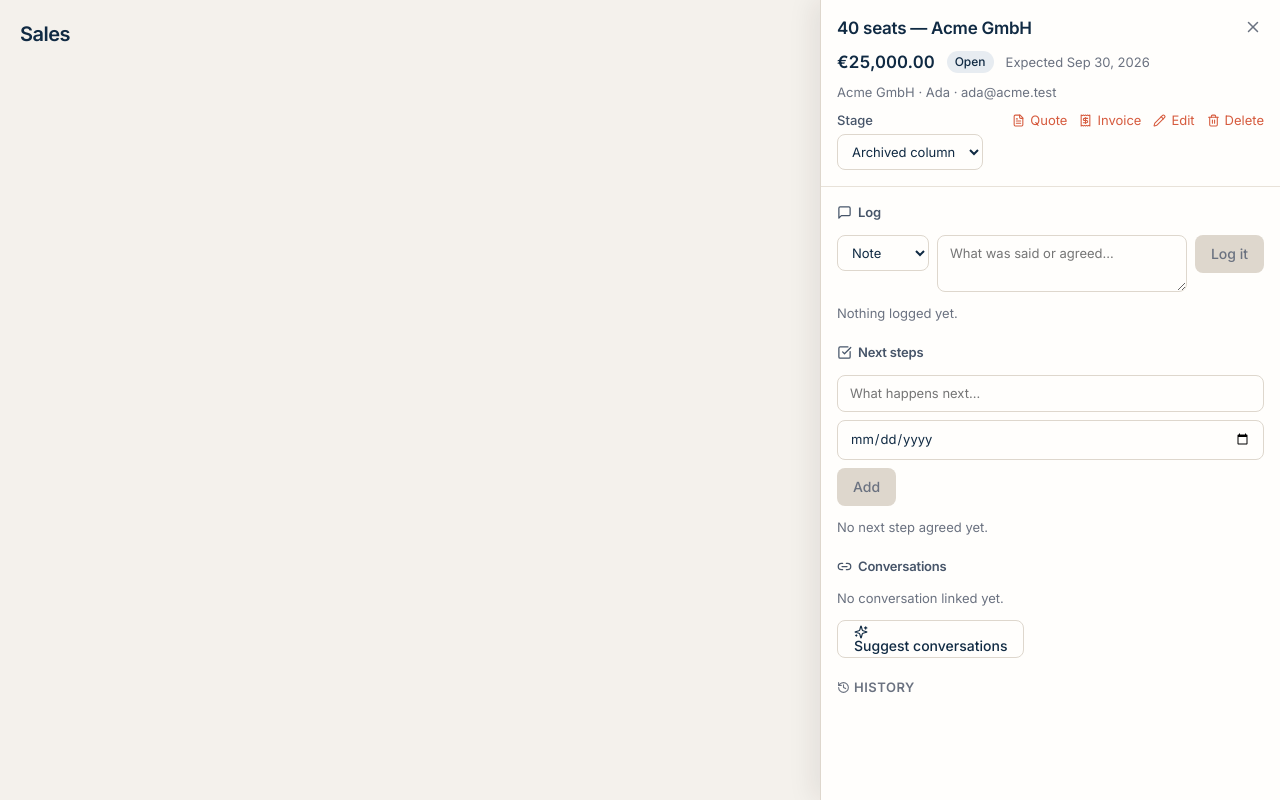
Test: the deal drawer › a note is written with the kind chosen, and the log re-read
Expected: the text "Nothing logged yet." is shown, [837,304,958,320]
Select "Meeting" in the dropdown named "Kind of entry" at point(883, 252), box [837,234,929,270]
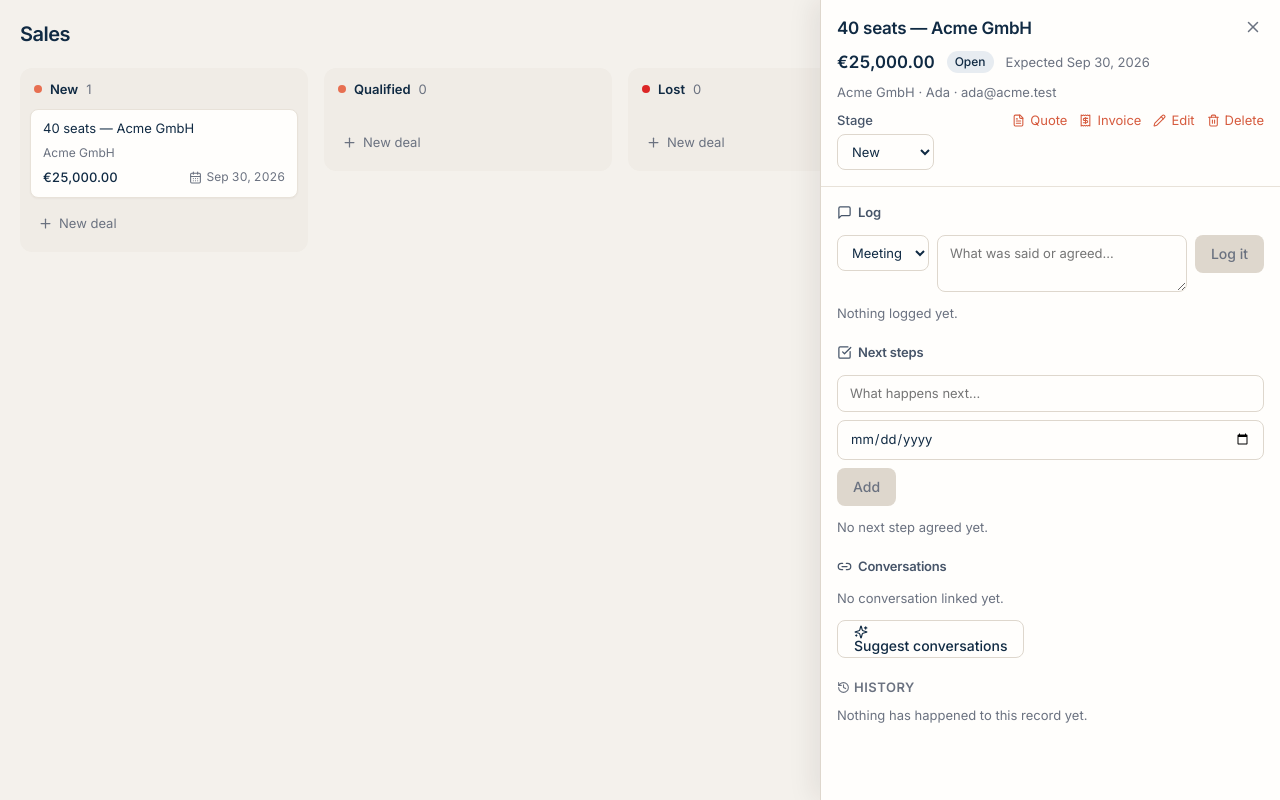
Type "Walked them through the seats." into the text box labelled "What was said or agreed…" at point(1062, 263), box [937,234,1187,292]
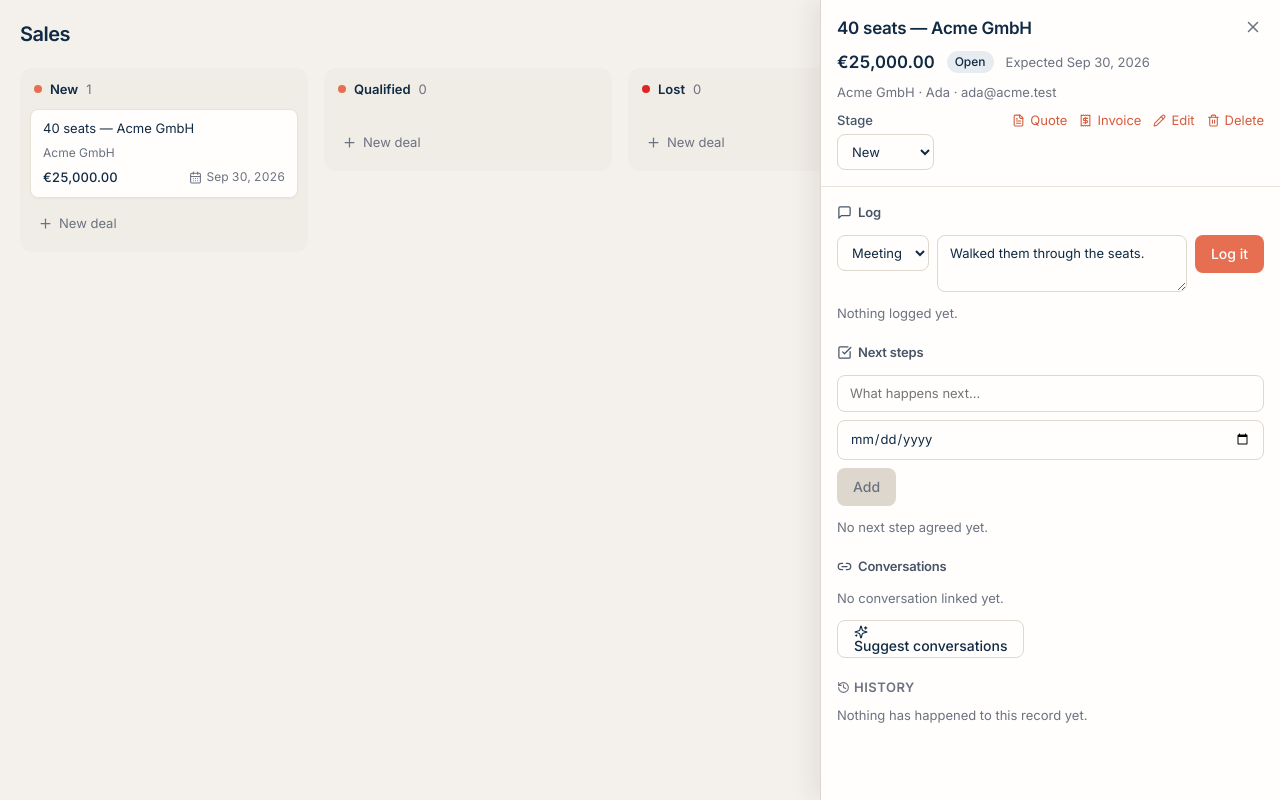
Click the button "Log it" at point(1229, 254), box [1195,234,1264,272]
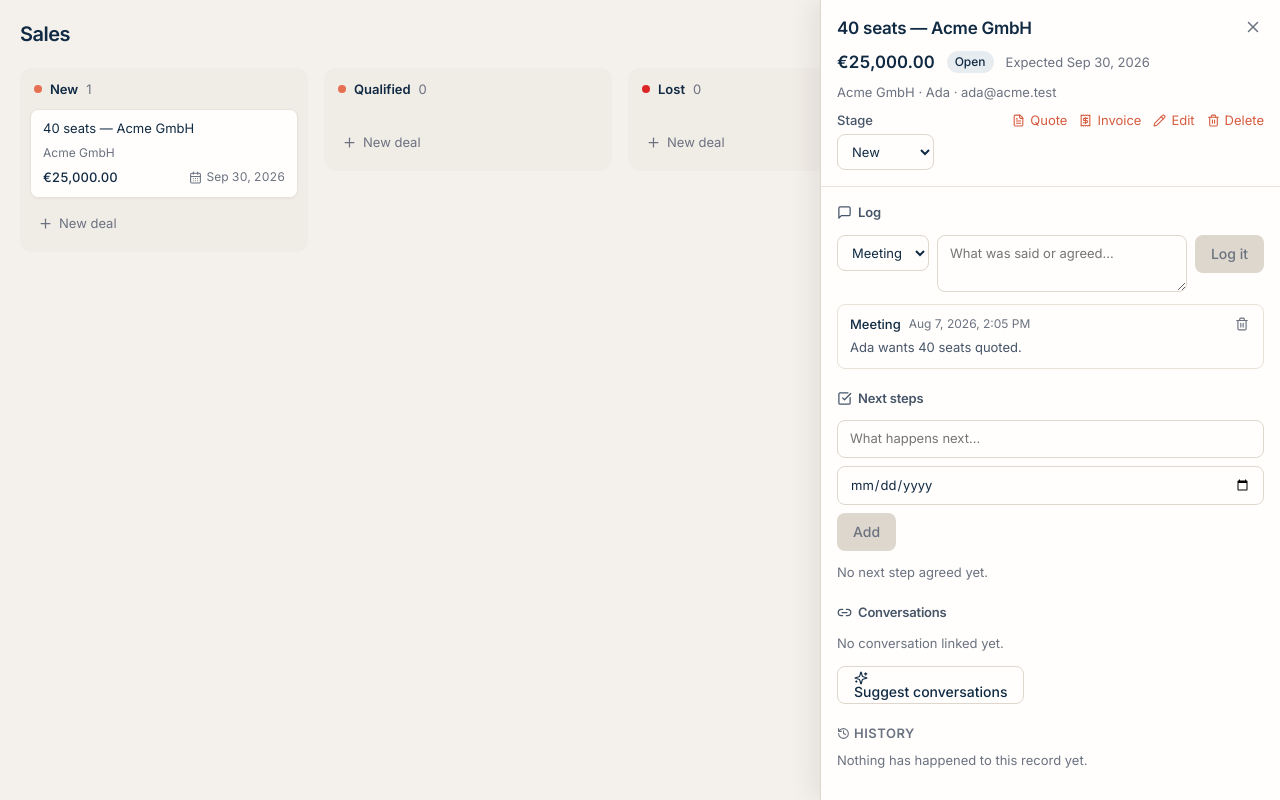
Expected: the text "Meeting" is shown, [850,314,901,334]
